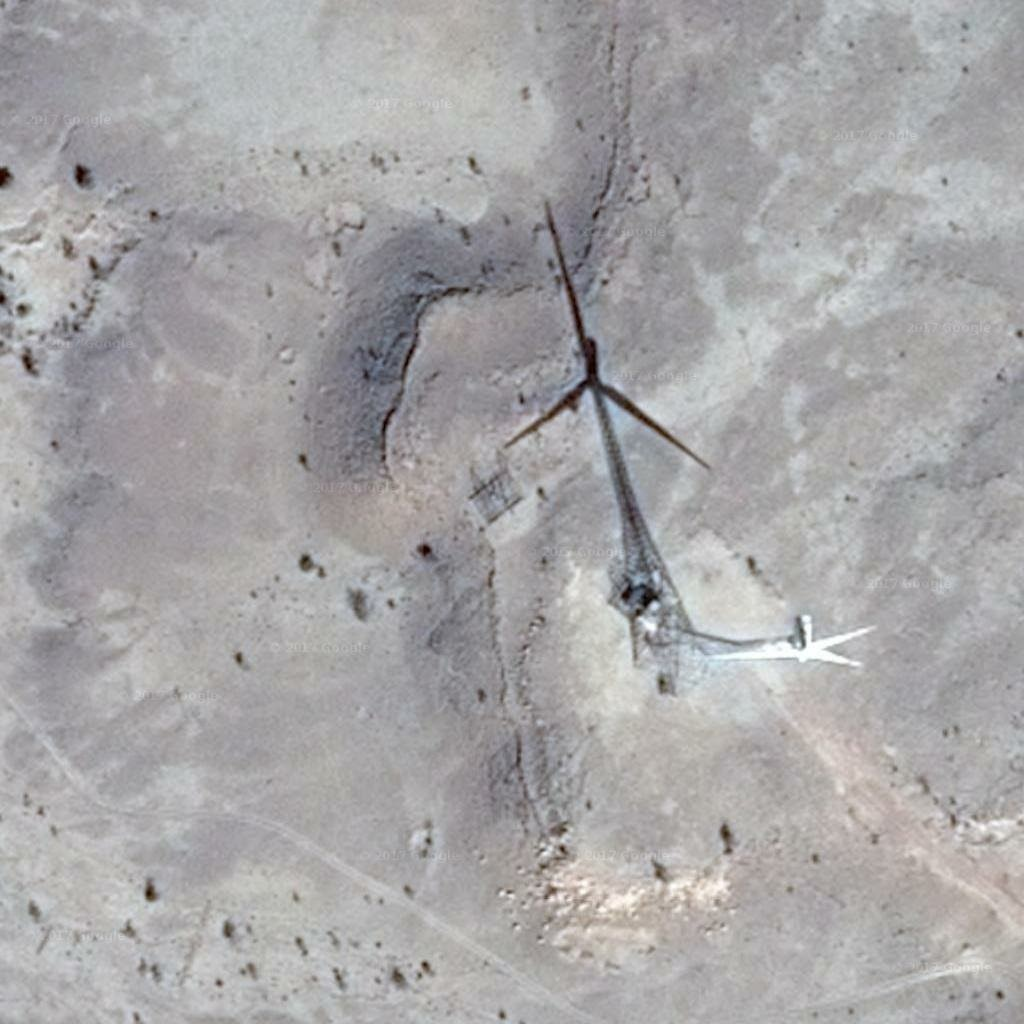Windmill: (504, 197, 708, 643)
